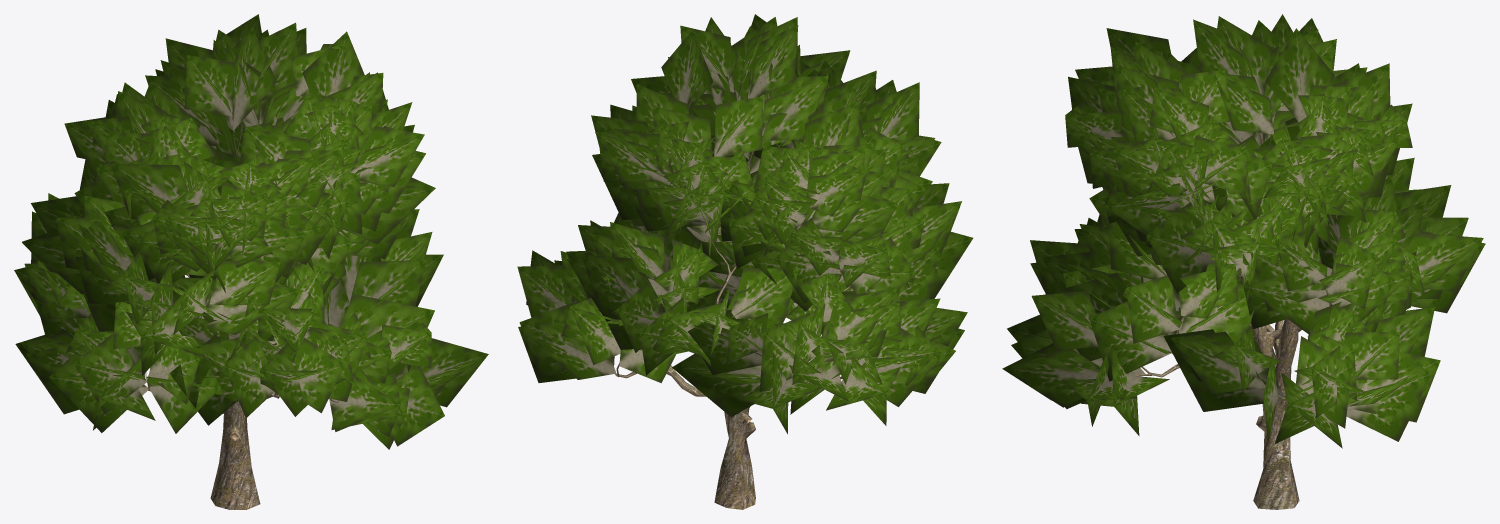
File: Tree4_LOD3.fbx
The picture shows the model from 3 angles, left to right: view 1: azimuth 30°, elevation 25°; view 2: azimuth 150°, elevation 25°; view 3: azimuth 270°, elevation 25°; orthographic projection. The views are drawn at different scales.
Visible parts, largest first — view 1: oak leaf_2, mossybark02_0; view 2: oak leaf_2, mossybark02_0; view 3: oak leaf_2, mossybark02_0.
Part boxes in pixels (x1,y1,x2,y2): oak leaf_2: [14, 14, 488, 449]; mossybark02_0: [144, 100, 400, 509]; oak leaf_2: [517, 14, 973, 434]; mossybark02_0: [615, 151, 880, 509]; oak leaf_2: [1002, 14, 1485, 448]; mossybark02_0: [1098, 133, 1361, 509].
Size of the model in its own units: 1385 by 1483 by 1374.
3 materials, 3 textured.
